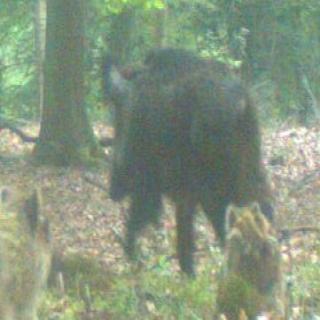Pig: (100, 15, 284, 209), (0, 166, 64, 320), (221, 186, 306, 296)
